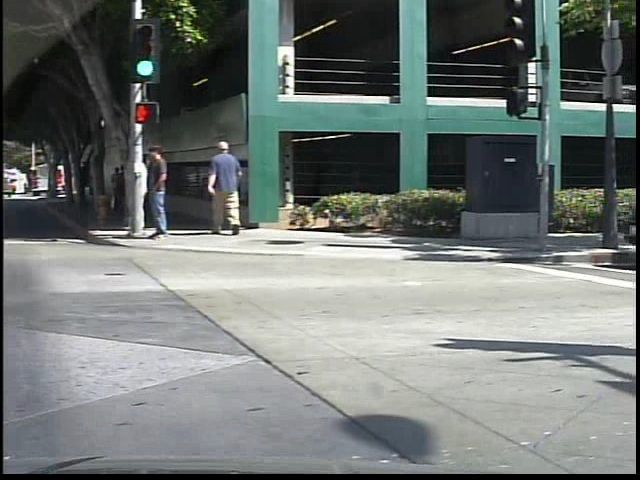person: (207, 136, 261, 236), (144, 140, 183, 246), (133, 146, 158, 231)
